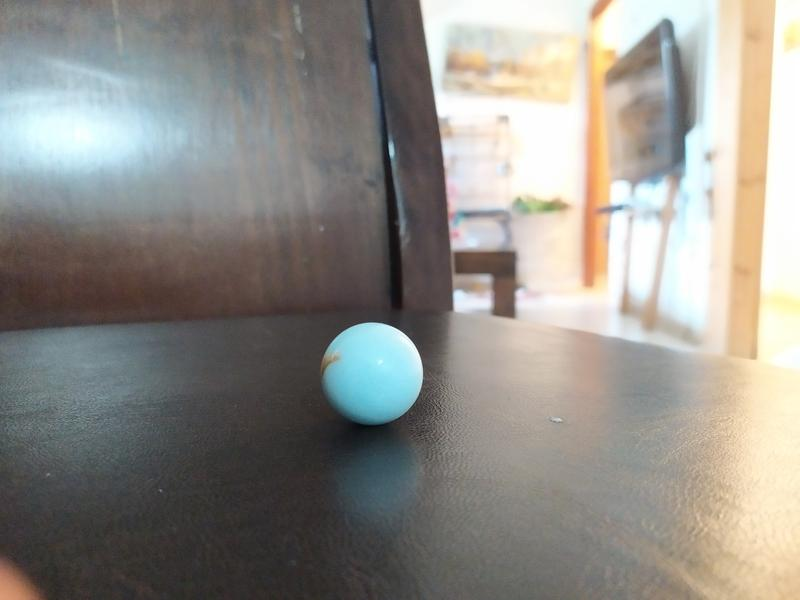Warning: (316, 319, 427, 428)
